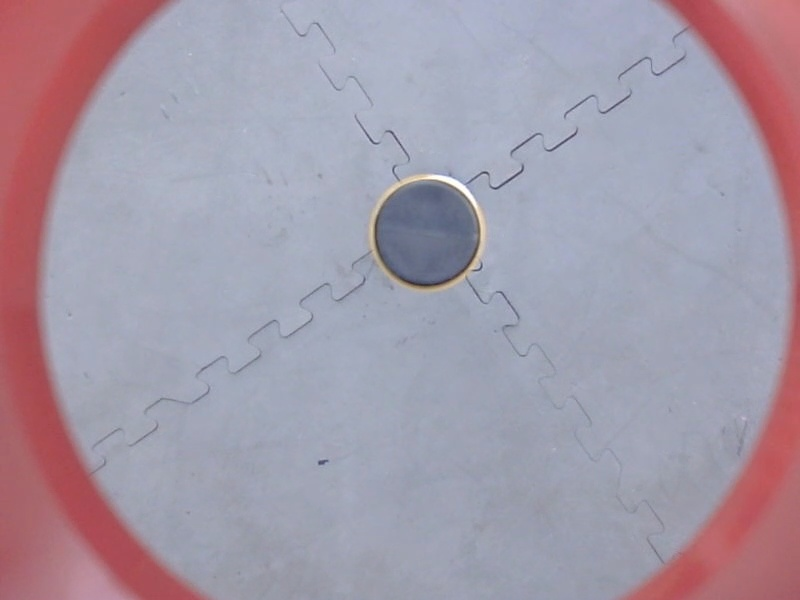tip: (365, 170, 492, 298)
